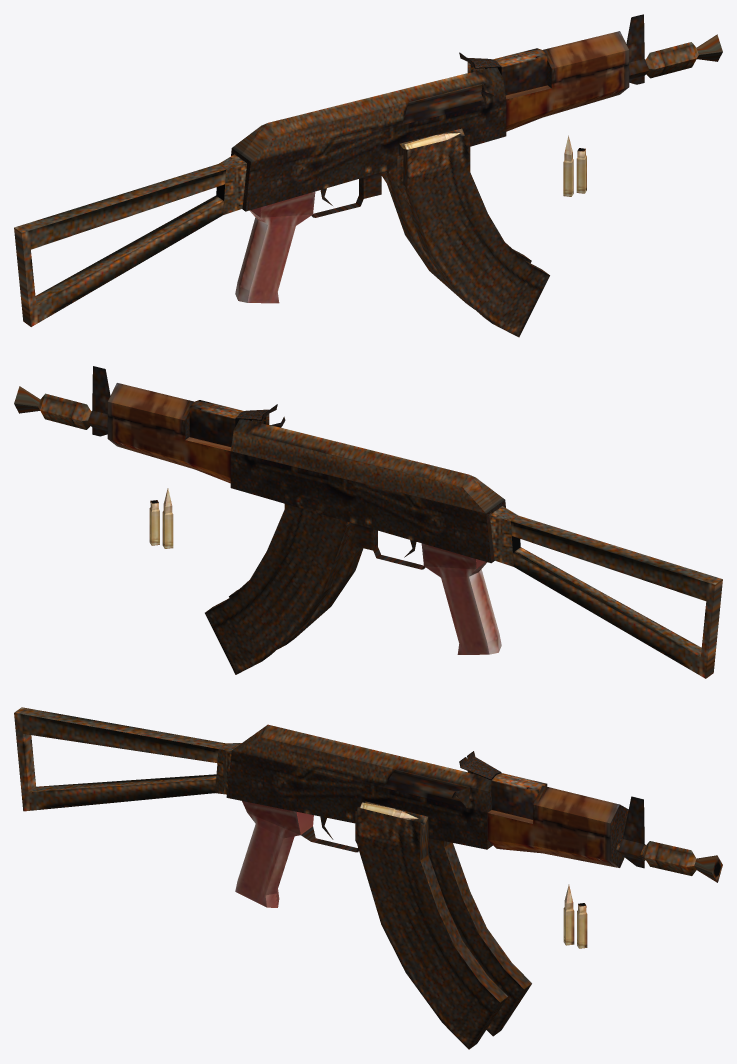
The model's file is boltmoving.glb.
3 renders of one model, top to bottom at view 1: azimuth 30°, elevation 25°; view 2: azimuth 150°, elevation 25°; view 3: azimuth 330°, elevation 25°, orthographic.
Parts seen in each view (by area): view 1: AK74U, AK74U_Mag_Full, AK74U.001, AK74U_Mag_Empty, 762x39_Bullet; view 2: AK74U, AK74U_Mag_Empty, AK74U_Mag_Full, 762x39_Bullet; view 3: AK74U, AK74U_Mag_Full, AK74U_Mag_Empty, AK74U.001, 762x39_Bullet.
Boxes of the visible parts, <box> form: AK74U: <box>14,14,722,326</box>; AK74U_Mag_Full: <box>397,128,549,337</box>; AK74U.001: <box>402,83,494,124</box>; AK74U_Mag_Empty: <box>381,168,531,309</box>; 762x39_Bullet: <box>563,135,573,196</box>; AK74U: <box>14,366,722,678</box>; AK74U_Mag_Empty: <box>205,504,355,674</box>; AK74U_Mag_Full: <box>229,527,363,649</box>; 762x39_Bullet: <box>162,488,173,548</box>; AK74U: <box>14,707,722,907</box>; AK74U_Mag_Full: <box>355,801,507,1049</box>; AK74U_Mag_Empty: <box>428,838,531,1036</box>; AK74U.001: <box>383,769,470,808</box>; 762x39_Bullet: <box>563,884,574,945</box>.
Bounding box in the file's own units: 3.54 × 1.31 × 0.3035.
Materials: 2 (2 with a texture image).
